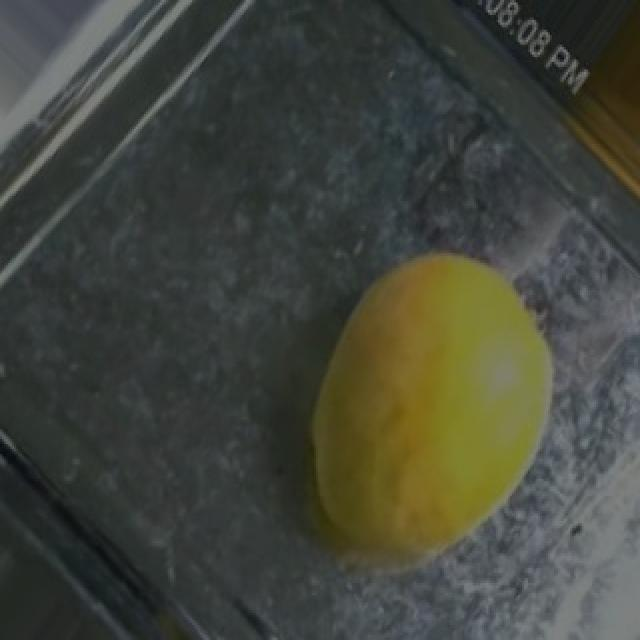fruit: (254, 198, 620, 606)
